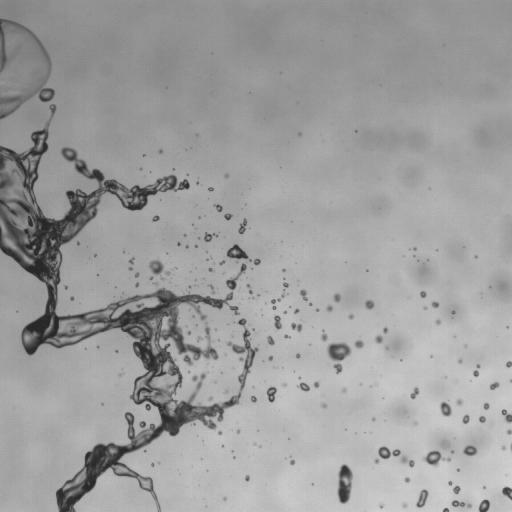droplet: (326, 342, 351, 373), (148, 258, 170, 280), (422, 450, 450, 467), (439, 401, 451, 416), (266, 386, 276, 402), (463, 445, 477, 456), (478, 499, 490, 511), (501, 409, 511, 423), (502, 486, 511, 500), (274, 315, 282, 329), (297, 382, 309, 391), (410, 387, 419, 399), (204, 233, 217, 241), (291, 322, 302, 331), (299, 289, 307, 300), (365, 300, 374, 309), (354, 339, 363, 348), (489, 381, 499, 389), (374, 335, 383, 343), (214, 204, 222, 212), (333, 293, 340, 302), (267, 336, 274, 345), (453, 485, 460, 494), (321, 331, 327, 341), (431, 301, 439, 308), (462, 415, 469, 423), (224, 213, 232, 219), (152, 215, 159, 221), (313, 381, 319, 388), (250, 396, 257, 402), (456, 399, 463, 405), (483, 402, 489, 409), (479, 416, 485, 423), (420, 291, 426, 297), (326, 305, 332, 311), (283, 282, 288, 289), (435, 319, 441, 324), (383, 327, 388, 333), (506, 361, 511, 367), (290, 459, 295, 465), (404, 477, 410, 482), (129, 257, 133, 264), (219, 260, 224, 265), (294, 308, 299, 313), (348, 314, 353, 319), (284, 334, 289, 339), (457, 358, 462, 363), (207, 396, 212, 401), (321, 403, 326, 408), (444, 443, 449, 448), (402, 502, 407, 507), (245, 475, 249, 481), (208, 187, 213, 191), (296, 353, 300, 358), (268, 355, 272, 360), (412, 421, 417, 425), (507, 429, 511, 434), (501, 445, 505, 450), (158, 149, 162, 153), (135, 273, 139, 277), (282, 382, 286, 386), (342, 388, 346, 392), (448, 481, 452, 485), (379, 504, 383, 508), (208, 268, 213, 271), (217, 431, 222, 434), (224, 174, 228, 177), (153, 282, 157, 285), (284, 310, 287, 314), (451, 311, 455, 314), (187, 330, 190, 334), (177, 242, 180, 245), (207, 257, 210, 260), (129, 267, 132, 270), (135, 283, 138, 286), (64, 285, 67, 288), (70, 297, 73, 300), (119, 373, 122, 376), (236, 430, 239, 433), (151, 463, 154, 466), (223, 497, 226, 500), (196, 182, 199, 184), (185, 245, 188, 247), (414, 247, 416, 250), (282, 269, 285, 271), (424, 306, 426, 309), (316, 308, 318, 311), (464, 345, 467, 347), (115, 350, 118, 352), (372, 418, 375, 420), (451, 450, 453, 453), (457, 468, 459, 471), (483, 486, 485, 489), (11, 87, 13, 89), (184, 234, 186, 236), (188, 286, 190, 288), (385, 347, 387, 349)
ligament: (0, 104, 258, 511), (0, 18, 54, 119), (374, 446, 414, 467), (226, 244, 260, 265), (337, 464, 352, 503), (271, 292, 287, 309), (416, 489, 428, 507), (451, 500, 472, 508), (238, 219, 247, 233), (247, 284, 255, 299), (473, 364, 480, 377), (208, 284, 215, 294), (442, 507, 449, 511), (510, 443, 511, 451), (510, 379, 511, 382)
